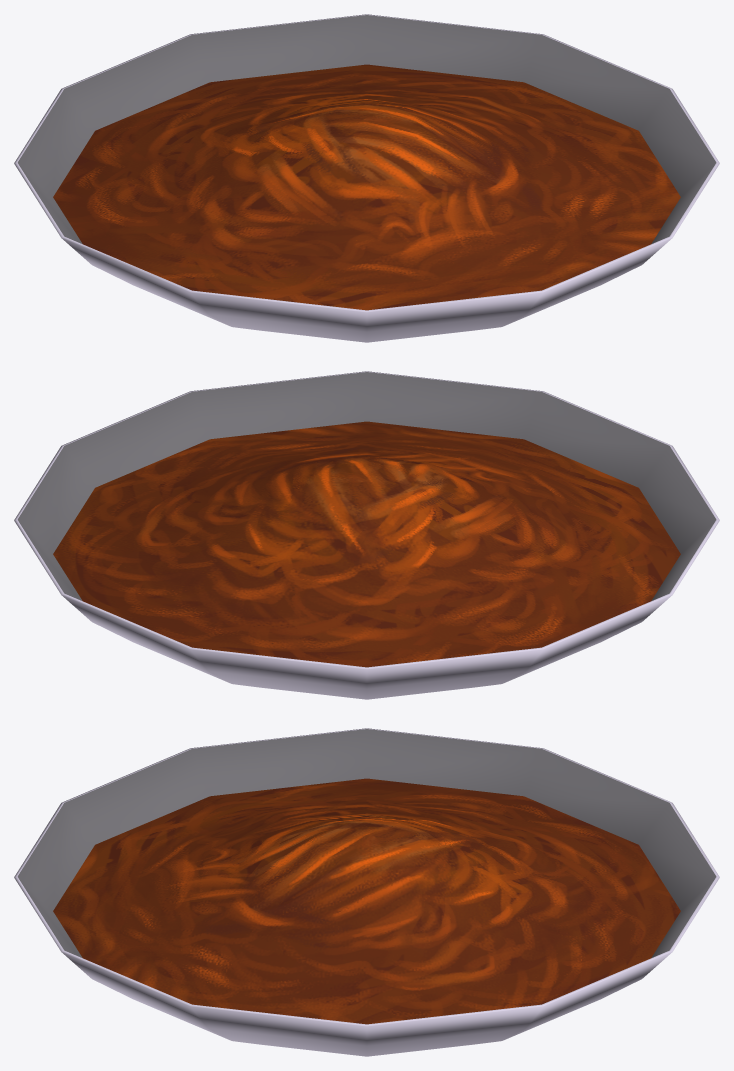
The model's file is soy_noodle.fbx.
3 renders of one model, top to bottom at view 1: azimuth 30°, elevation 25°; view 2: azimuth 150°, elevation 25°; view 3: azimuth 270°, elevation 25°, orthographic.
Visible parts, largest first — view 1: soynoodle, bowl.007; view 2: soynoodle, bowl.007; view 3: soynoodle, bowl.007.
Boxes of the visible parts, x1,y1,x2,y2 form: soynoodle: (53,64,680,310); bowl.007: (14,14,719,342); soynoodle: (53,421,680,667); bowl.007: (14,371,719,699); soynoodle: (53,778,680,1024); bowl.007: (14,728,719,1056).
Bounding box in the file's own units: 116 × 29.9 × 116.
